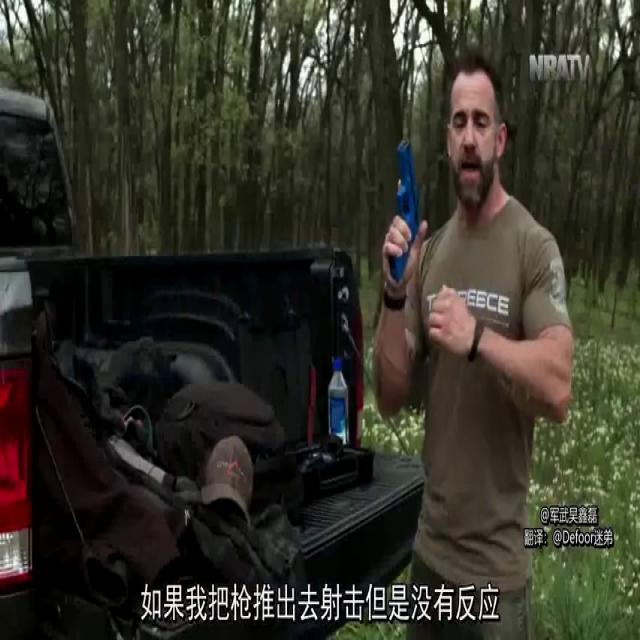gun-knife-thesis - v11 Yolov5 augmented: (367, 135, 430, 309)
